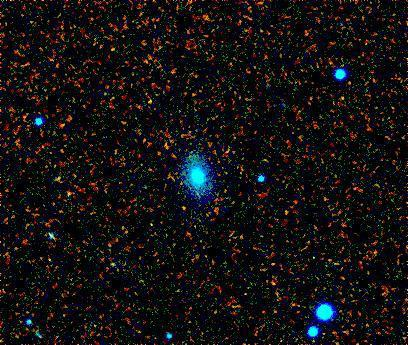star: (50, 112, 80, 142)
